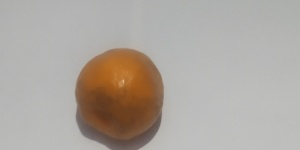BAD: (75, 46, 164, 143)
